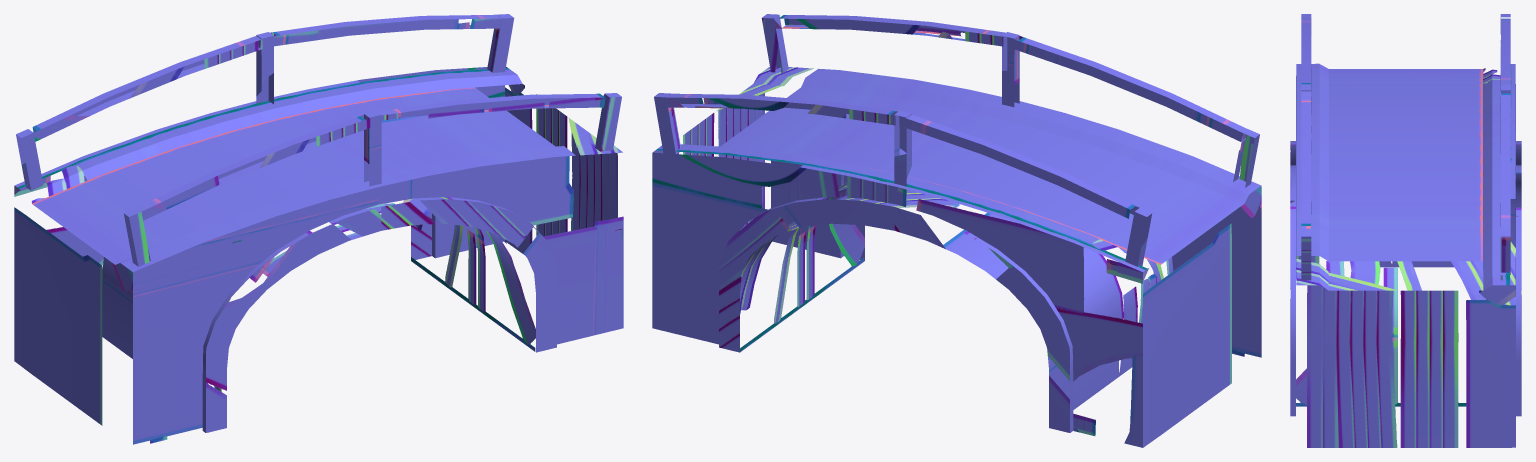
Rendered from StoneFootBridgeCage.FBX.
3 views of the same model, side by side, from view 1: azimuth 30°, elevation 25°; view 2: azimuth 150°, elevation 25°; view 3: azimuth 270°, elevation 25° (orthographic). The views are drawn at different scales.
Visible parts, largest first — view 1: Cylinder004; view 2: Cylinder004; view 3: Cylinder004.
Part boxes in pixels (left/top/right/bottom): Cylinder004: left=14, top=14, right=623, bottom=444; Cylinder004: left=652, top=14, right=1261, bottom=447; Cylinder004: left=1290, top=14, right=1521, bottom=447.
Bounding box in the file's own units: 226 × 118 × 99.34.
Materials: 1 (1 with a texture image).
